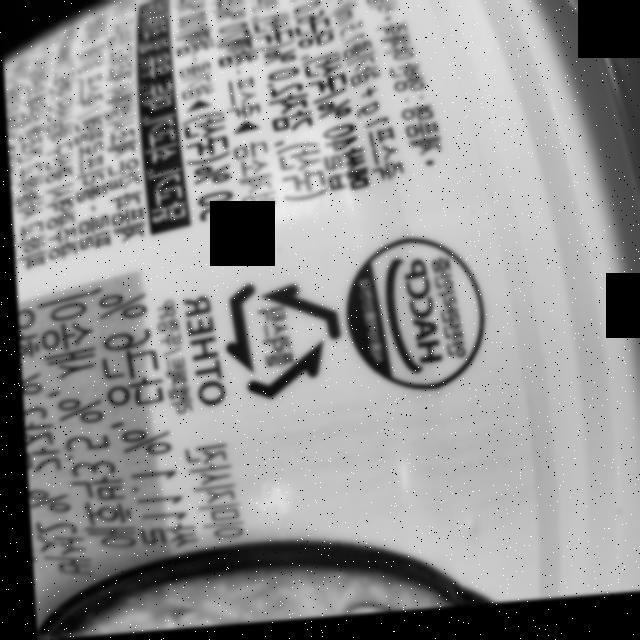Plastic: (212, 274, 346, 408)
